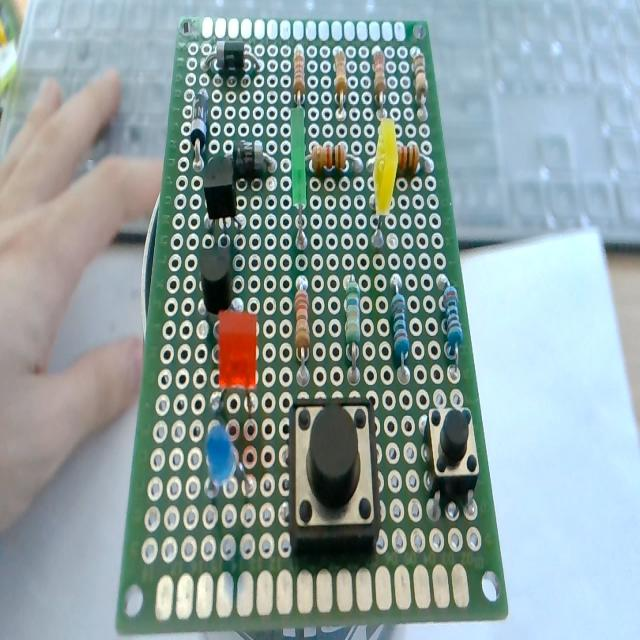diode: (202, 36, 267, 82), (186, 82, 214, 158), (225, 138, 277, 178)
led: (215, 305, 274, 415), (198, 426, 252, 524), (370, 119, 404, 250), (288, 110, 312, 253)
resistor: (284, 278, 328, 386), (388, 260, 418, 394), (340, 270, 372, 380), (434, 270, 464, 372), (306, 136, 362, 180), (364, 138, 436, 172), (406, 48, 430, 123), (365, 44, 391, 110), (329, 44, 353, 113), (288, 45, 310, 106)
switch: (282, 392, 390, 572), (421, 403, 482, 501)
transistor: (195, 154, 241, 242), (194, 244, 243, 314)
